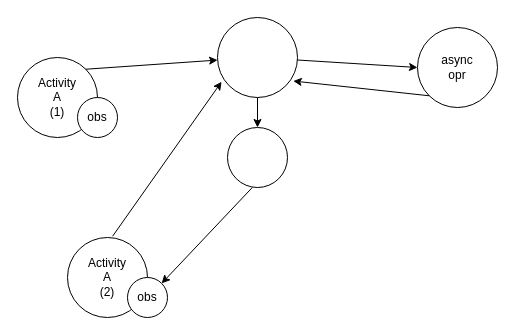
The diagram is 515 pixels wide and 335 high, and some of its shapes have lost their labels. Each missing label, with the centre of its shape:
LiveData: [257,157]
ViewModel: [257,57]
